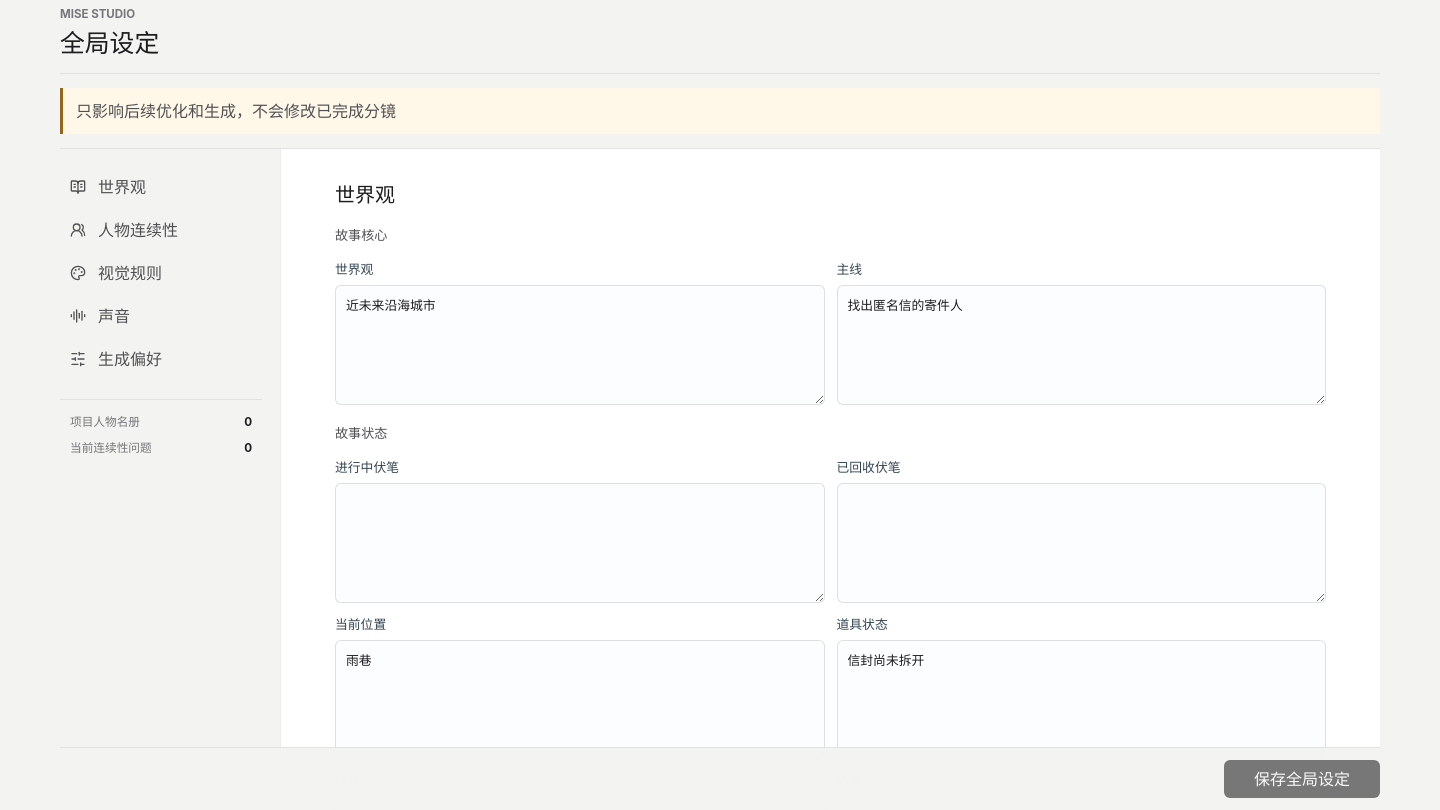
Test: GlobalSettingsPage › keeps the edited draft visible and reports a rejected save
Replace the text in the text box labelled "世界观" with "失败后仍保留的草稿": coordinates (580, 345) [335,285,824,405]
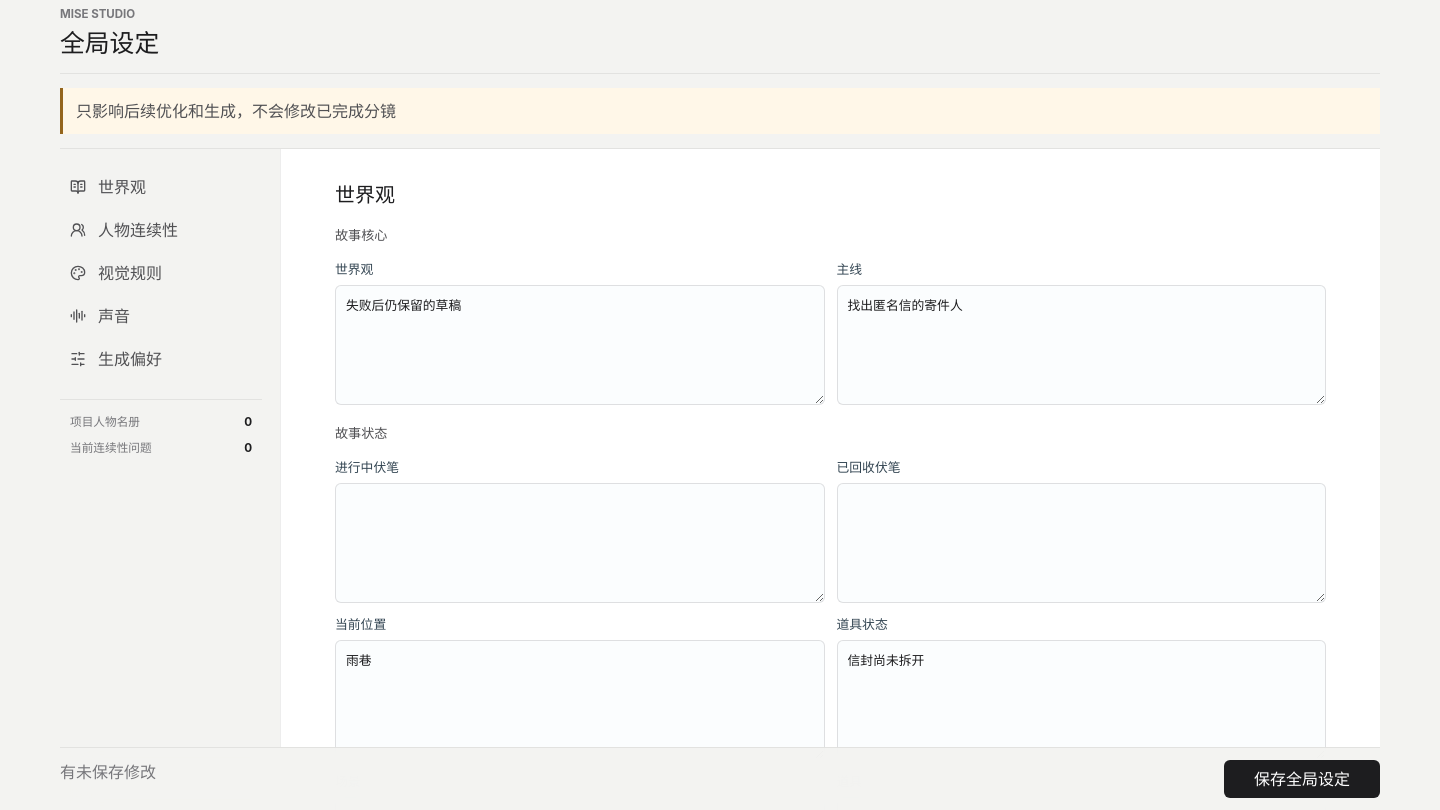
Click the button "保存全局设定": coordinates (1302, 779) [1224,760,1380,798]
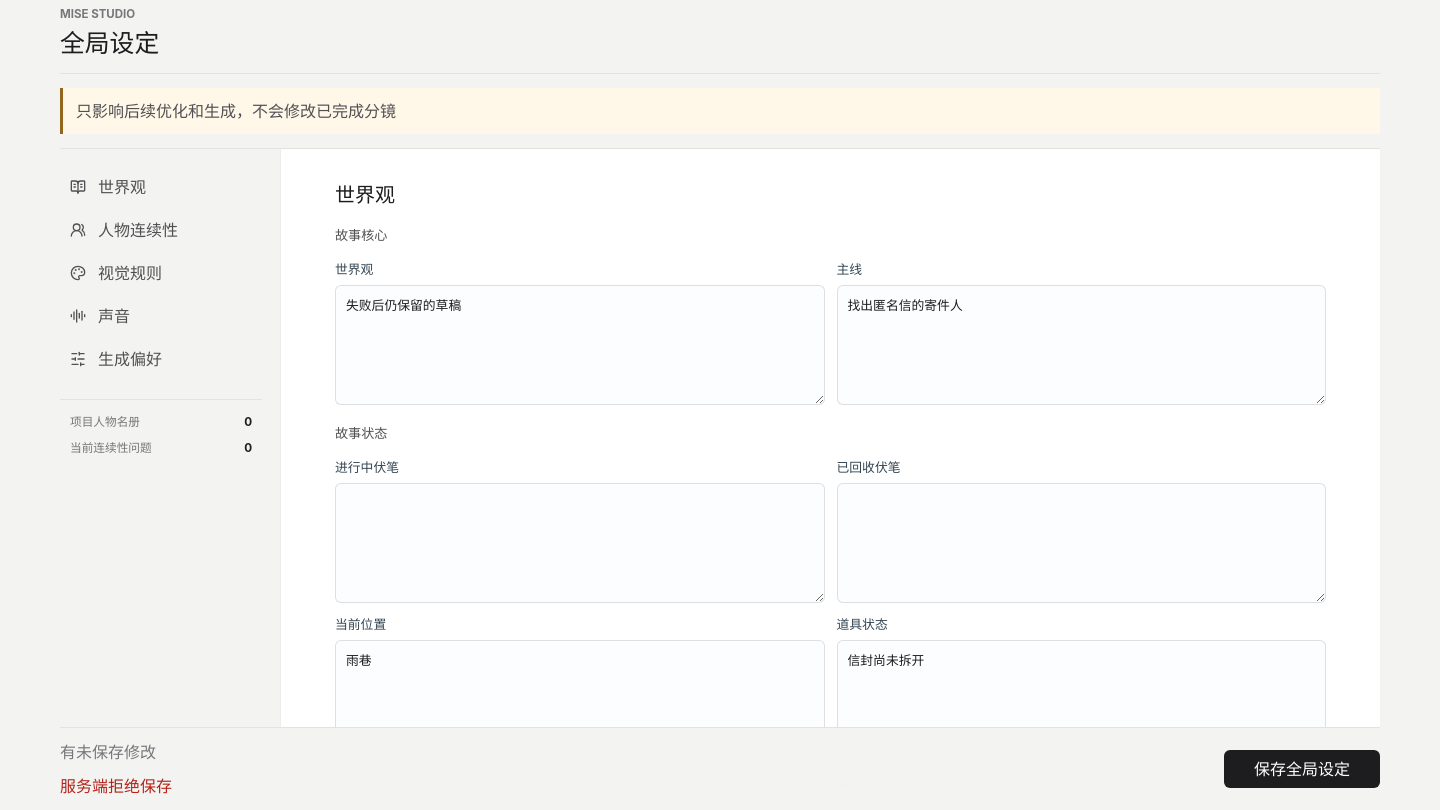
Result: the button "保存全局设定" is enabled at [1224,750,1380,788]
Result: the message "服务端拒绝保存" is shown at [60,776,172,796]
